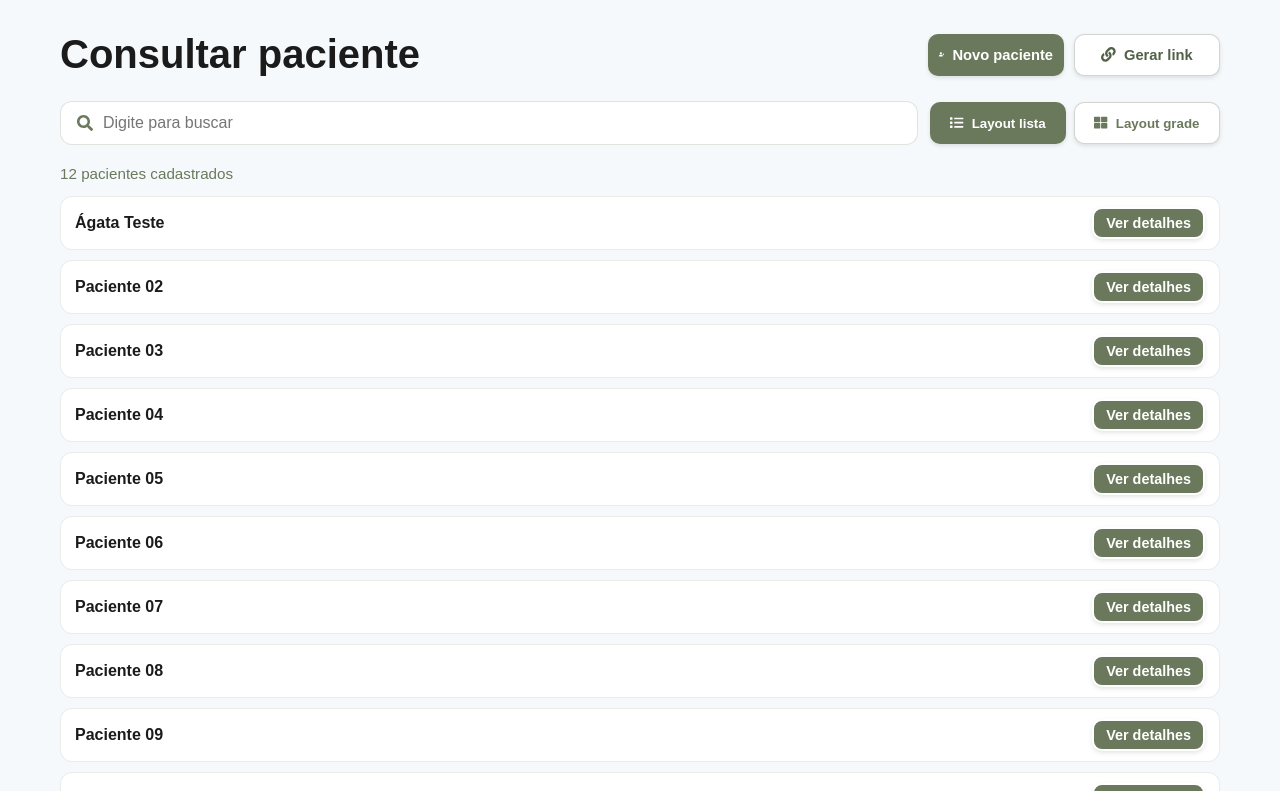
it: PatientsSearch › carrega, pesquisa sem diferenciar acentos e preserva os links reais
Expected: the text "12 pacientes cadastrados" is shown, [60,165,233,182]
Step 1. Type "agata" into the field with placeholder "Digite para buscar" → (502, 123), box [103,114,901,132]
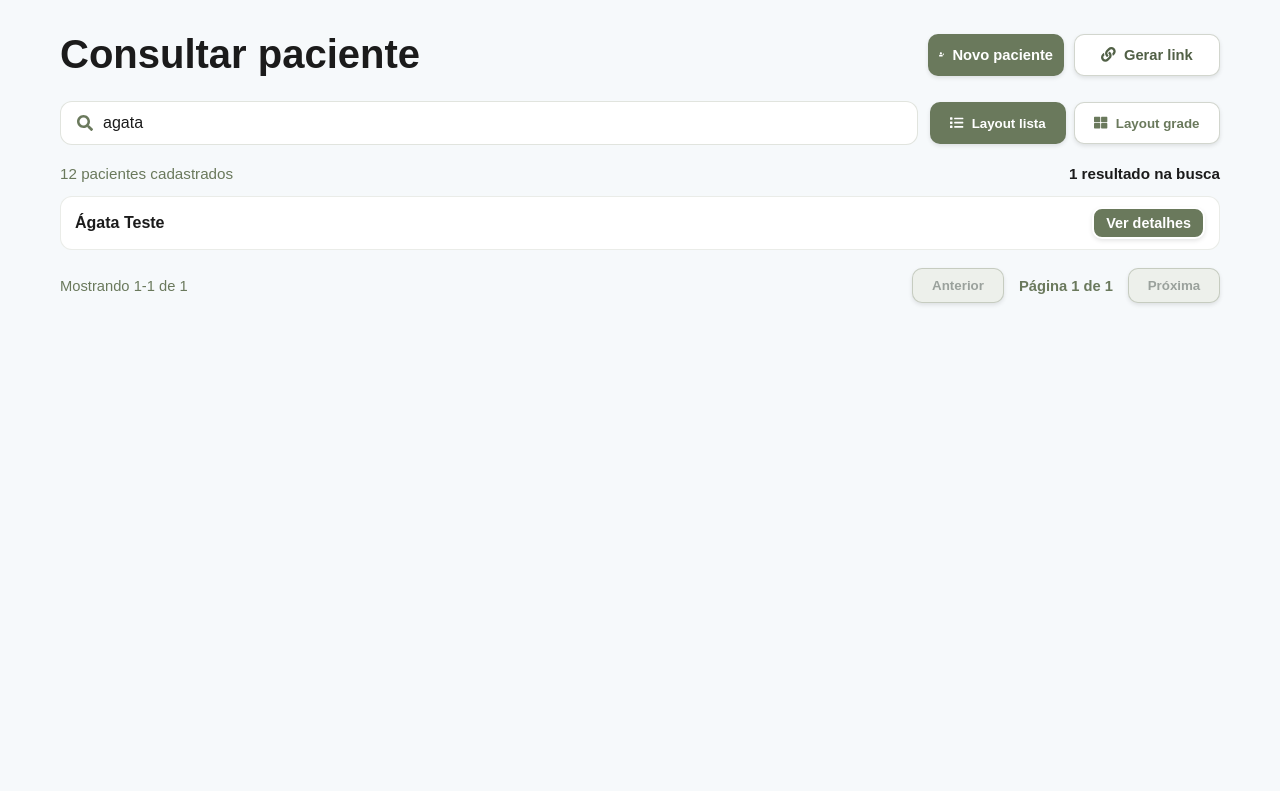
Expected: the link "Ágata Teste Ver detalhes" is shown, [60,196,1220,250]
Now the text "1 resultado na busca" is shown, box [1069,165,1220,182]
